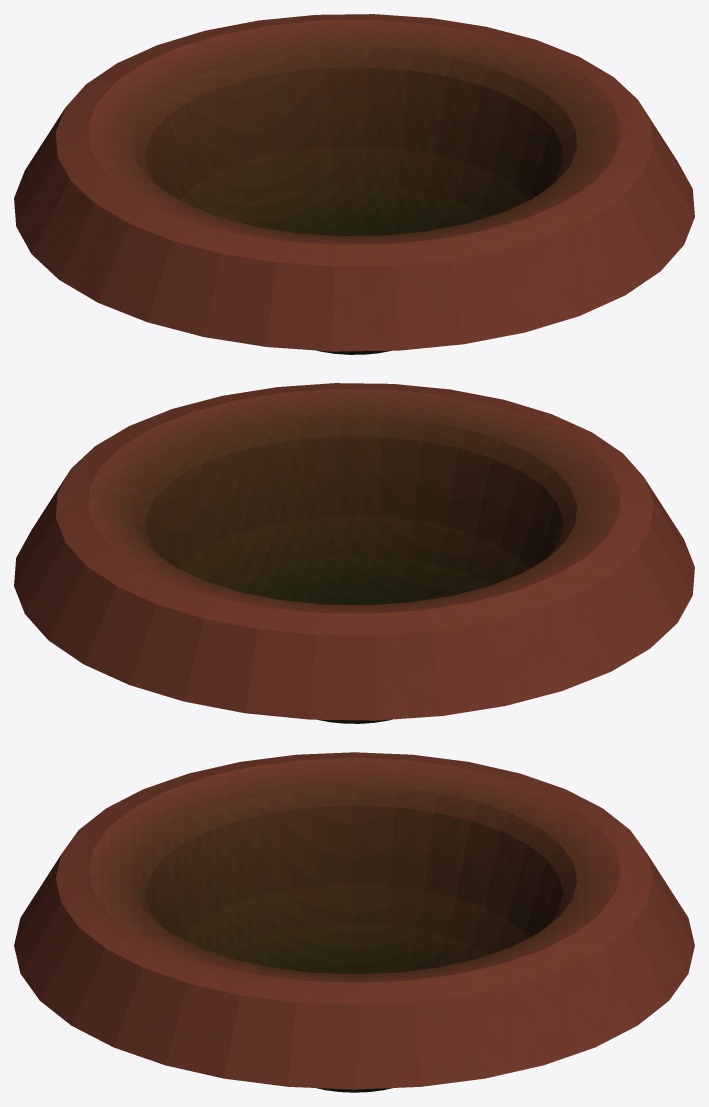
File: RUPA.glb
3 renders of one model, top to bottom at view 1: azimuth 30°, elevation 25°; view 2: azimuth 150°, elevation 25°; view 3: azimuth 270°, elevation 25°, orthographic.
Visible parts, largest first — view 1: Sphere; view 2: Sphere; view 3: Sphere.
Boxes of the visible parts, bbox=[...] form: Sphere: bbox=[14, 14, 694, 354]; Sphere: bbox=[14, 383, 694, 723]; Sphere: bbox=[14, 752, 694, 1092].
Bounding box in the file's own units: 3.42 × 1.13 × 3.42.
1 material, 1 textured.
